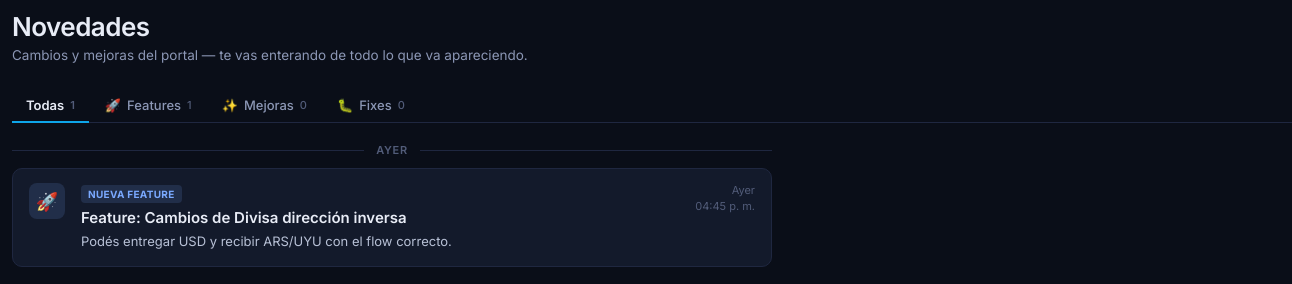
Test: Pantalla Novedades › empty state filtrado: "No hay fixs publicados" cuando el filtro no matchea
Expected: the heading "Feature: Cambios de Divisa dirección inversa" is shown, [81,208,407,227]
Click the tab "🐛 Fixes 0": click(371, 106) [323,89,419,123]
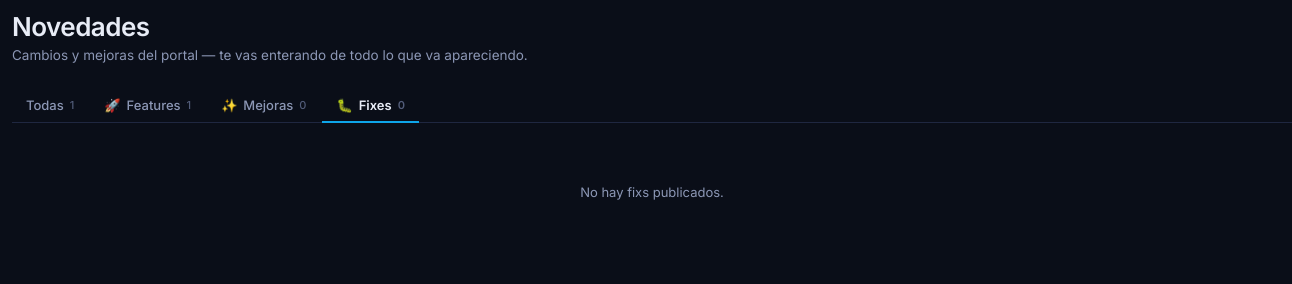
Expected: the text "No hay fixs publicados." is shown, [580,184,724,200]
